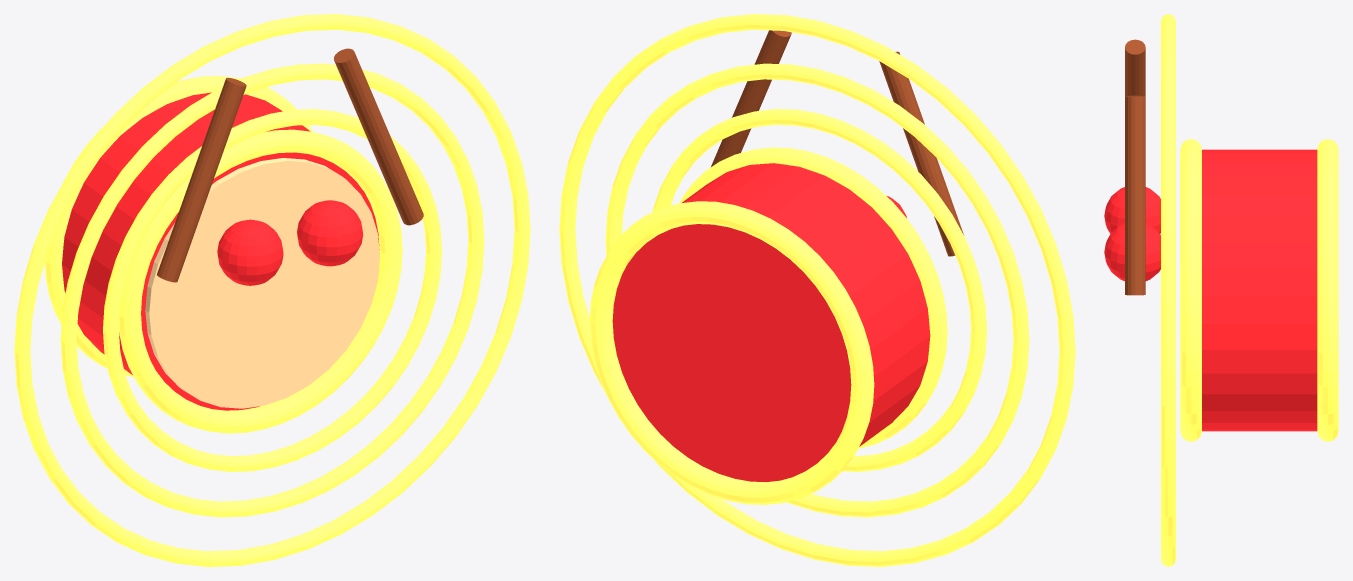
Rendered from effect-rally.glb.
3 renders of one model, left to right at view 1: azimuth 30°, elevation 25°; view 2: azimuth 150°, elevation 25°; view 3: azimuth 270°, elevation 25°, orthographic. The views are drawn at different scales.
Visible parts, largest first — view 1: Rally_DrumFace, Rally_MoraleRing_3, Rally_MoraleRing_2, Rally_DrumRim_Front, Rally_MoraleRing_1, Rally_DrumBody, Rally_MalletStick_1, Rally_DrumRim_Back, Rally_MalletStick_2, Rally_MalletHead_1, Rally_MalletHead_2; view 2: Rally_DrumBody, Rally_MoraleRing_3, Rally_DrumRim_Back, Rally_MoraleRing_2, Rally_MoraleRing_1, Rally_DrumRim_Front, Rally_MalletStick_1, Rally_MalletStick_2; view 3: Rally_DrumBody, Rally_MoraleRing_3, Rally_DrumRim_Back, Rally_DrumRim_Front, Rally_MalletStick_2, Rally_MalletHead_2, Rally_MalletHead_1, Rally_MalletStick_1.
Boxes of the visible parts, left/top/right/bottom form: Rally_DrumFace: left=145, top=158, right=379, bottom=408; Rally_MoraleRing_3: left=14, top=14, right=530, bottom=566; Rally_MoraleRing_2: left=60, top=63, right=484, bottom=517; Rally_DrumRim_Front: left=119, top=129, right=402, bottom=433; Rally_MoraleRing_1: left=103, top=109, right=441, bottom=471; Rally_DrumBody: left=62, top=92, right=379, bottom=410; Rally_MalletStick_1: left=157, top=77, right=246, bottom=282; Rally_DrumRim_Back: left=45, top=76, right=312, bottom=377; Rally_MalletStick_2: left=334, top=48, right=423, bottom=225; Rally_MalletHead_1: left=217, top=219, right=283, bottom=285; Rally_MalletHead_2: left=297, top=200, right=363, bottom=266; Rally_DrumBody: left=612, top=163, right=930, bottom=482; Rally_MoraleRing_3: left=559, top=14, right=1075, bottom=566; Rally_DrumRim_Back: left=589, top=201, right=874, bottom=504; Rally_MoraleRing_2: left=605, top=63, right=1029, bottom=517; Rally_MoraleRing_1: left=652, top=109, right=986, bottom=471; Rally_DrumRim_Front: left=679, top=147, right=947, bottom=448; Rally_MalletStick_1: left=879, top=51, right=963, bottom=256; Rally_MalletStick_2: left=711, top=30, right=791, bottom=166; Rally_DrumBody: left=1202, top=149, right=1317, bottom=431; Rally_MoraleRing_3: left=1161, top=14, right=1175, bottom=566; Rally_DrumRim_Back: left=1317, top=139, right=1338, bottom=441; Rally_DrumRim_Front: left=1180, top=139, right=1201, bottom=441; Rally_MalletStick_2: left=1125, top=95, right=1145, bottom=295; Rally_MalletHead_2: left=1104, top=223, right=1160, bottom=281; Rally_MalletHead_1: left=1104, top=187, right=1160, bottom=233; Rally_MalletStick_1: left=1125, top=39, right=1145, bottom=95.
Size of the model in its own units: 1.34 by 1.34 by 0.566.
